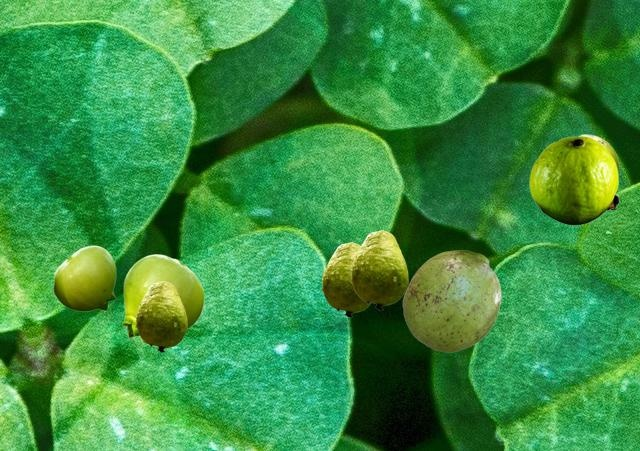guava: (402, 250, 500, 351), (529, 136, 617, 224), (122, 254, 203, 342), (350, 230, 407, 309), (53, 245, 115, 310), (321, 242, 371, 316), (135, 281, 186, 351), (579, 134, 618, 208)
